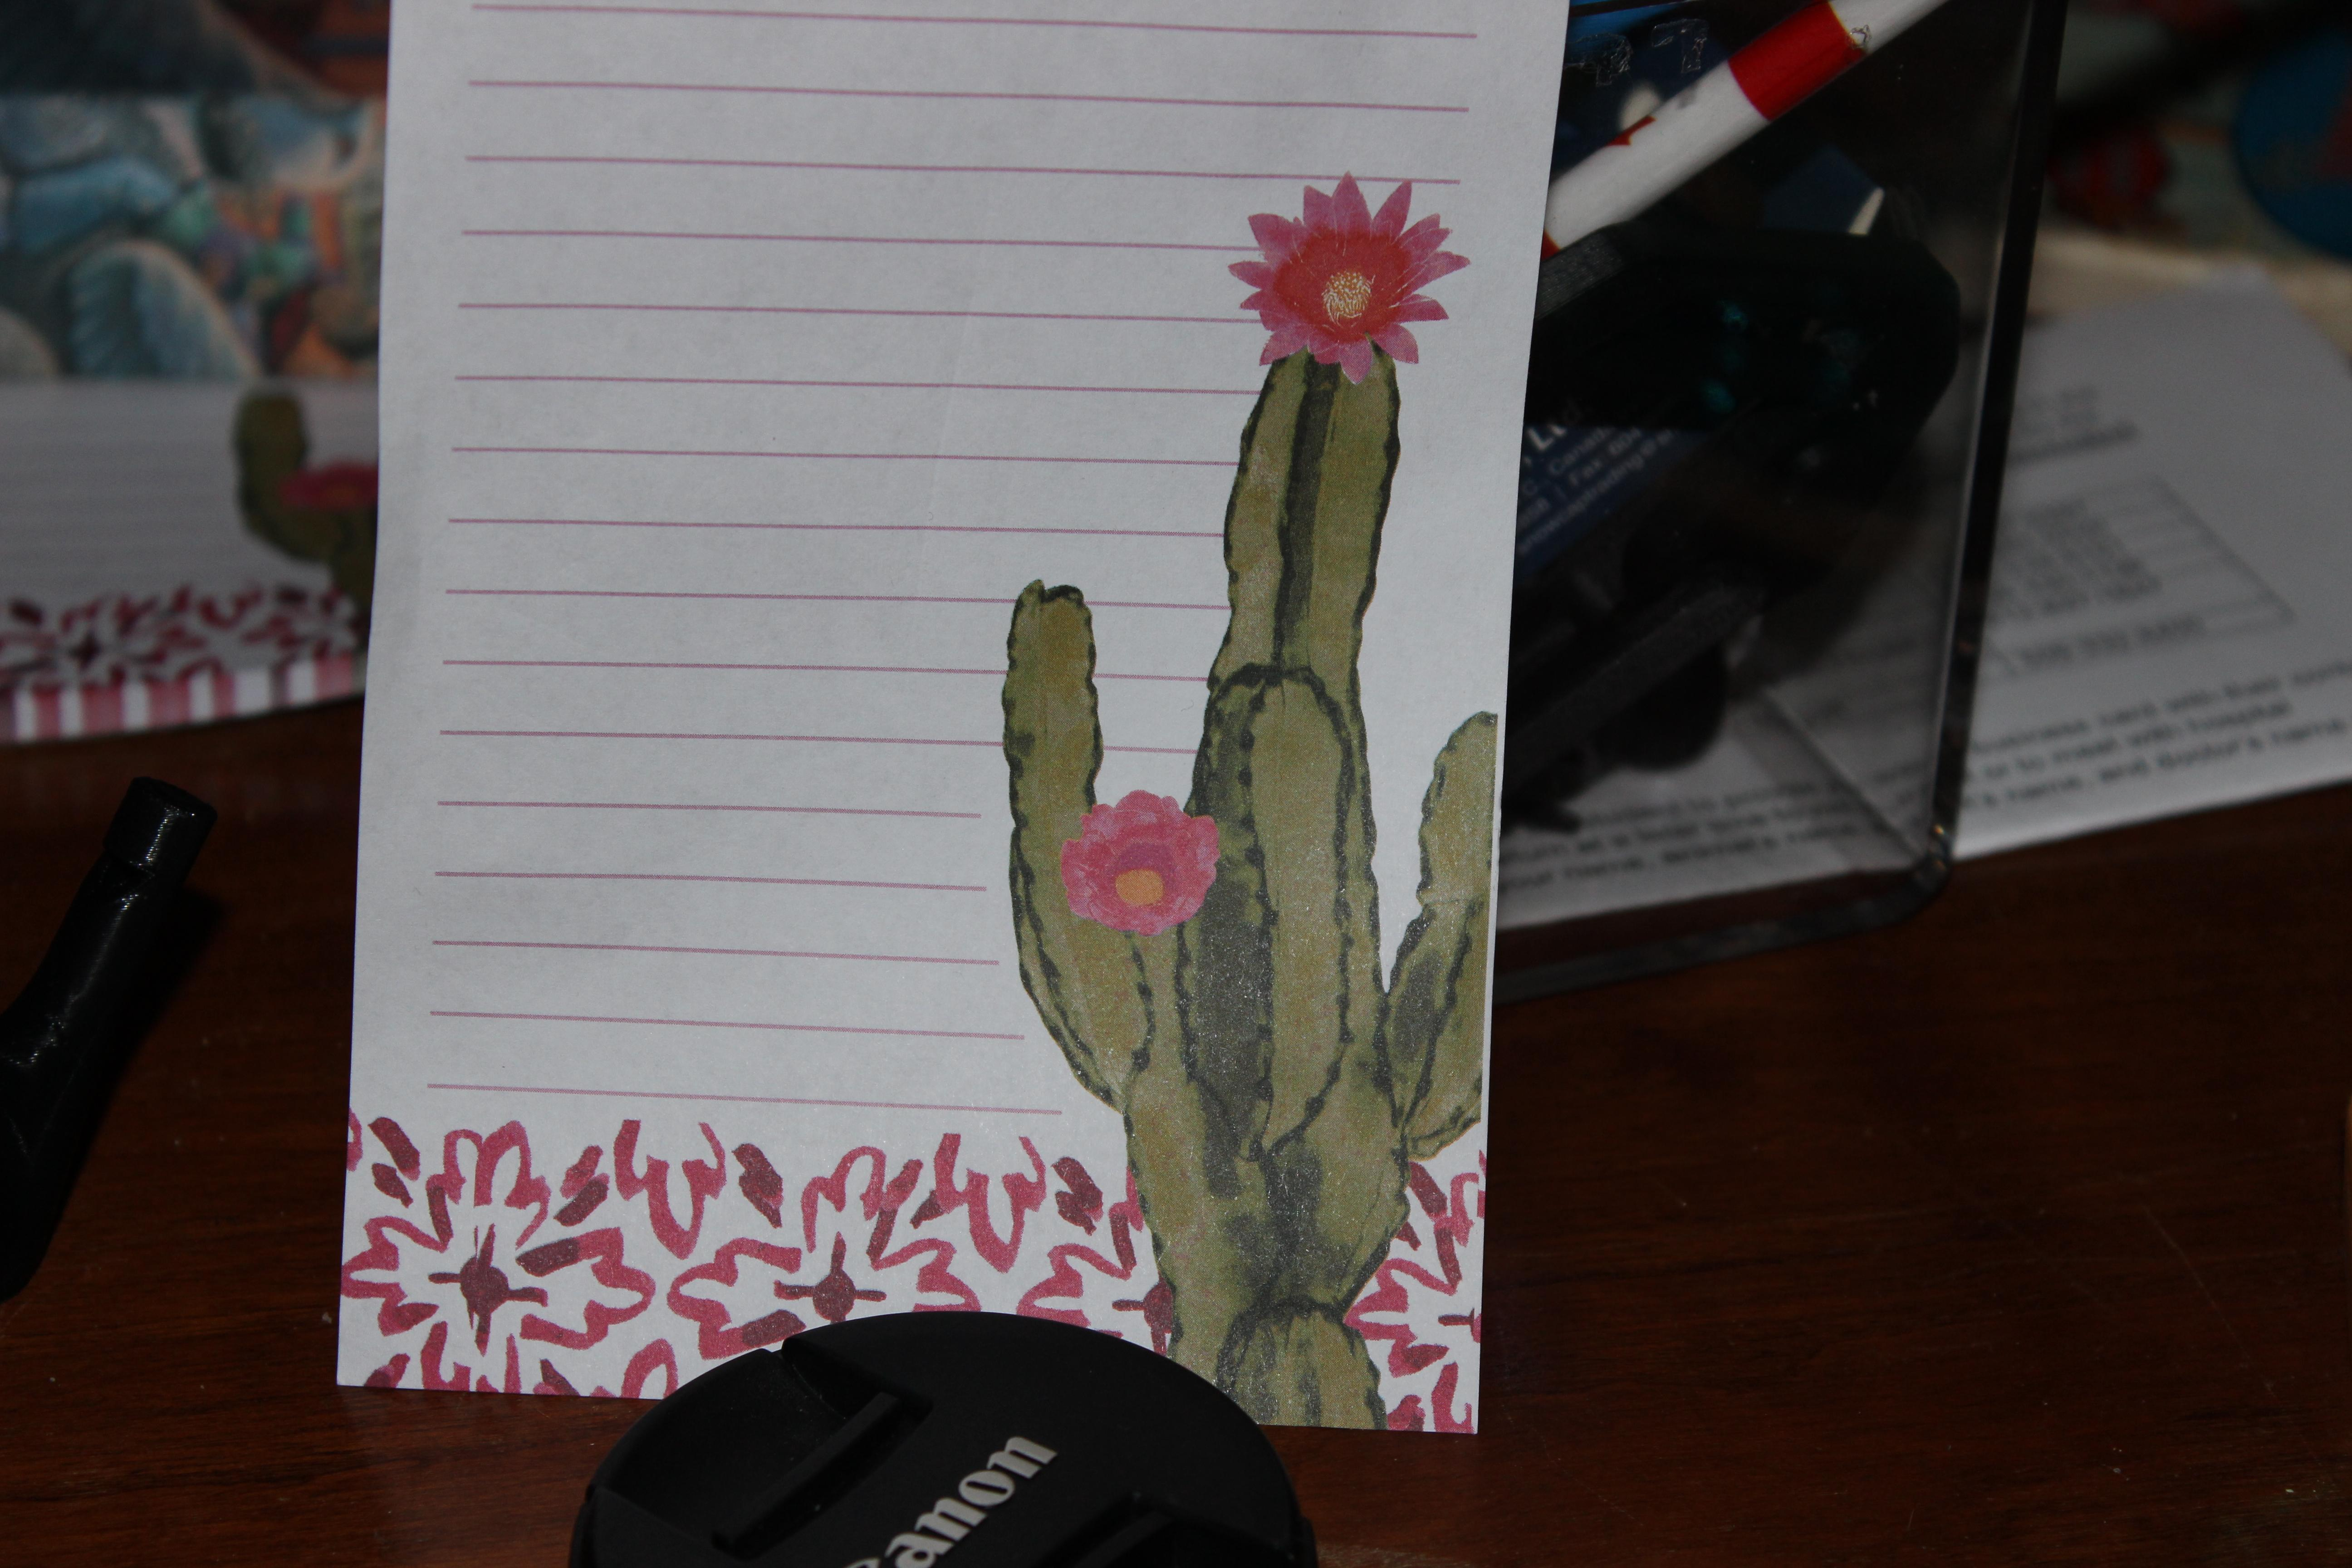cactusPaper: (315, 0, 1608, 1468)
